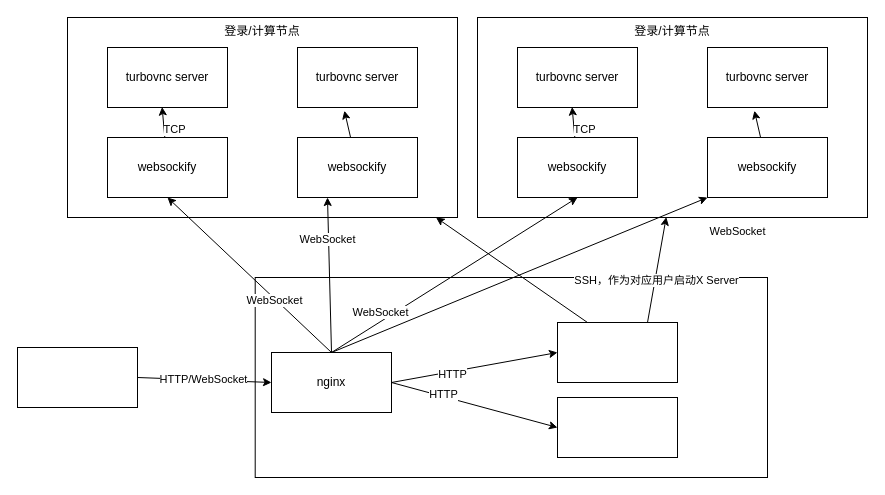
The diagram is 885 pixels wide and 495 high, and some of its shapes have lost their labels. The shapes that lost their labels are listed below. From the top down, each one's box as (x1, y1, x2, y2) in pixels, then its label:
(556, 322, 678, 382): scow
(16, 346, 138, 408): 客户端浏览器
(254, 276, 768, 478): service
(556, 396, 678, 458): novnc（静态文件）
